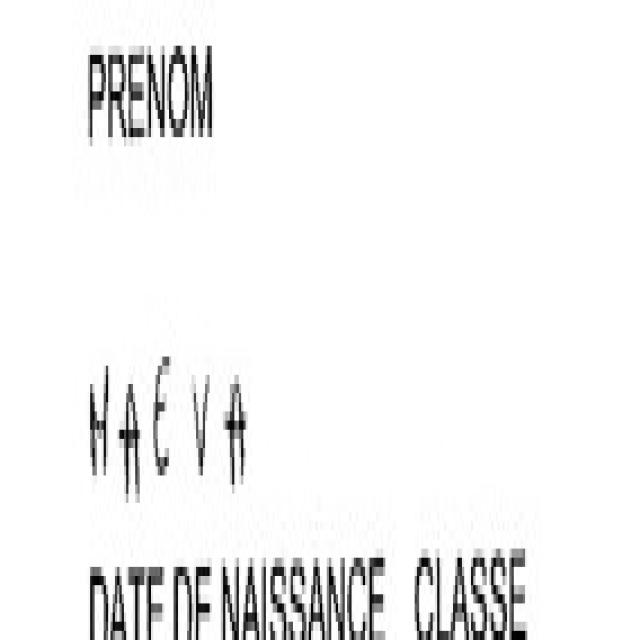A: (220, 360, 258, 547), (118, 377, 144, 545)
E: (149, 342, 176, 538)
H: (85, 363, 113, 535)
V: (186, 356, 216, 512)
